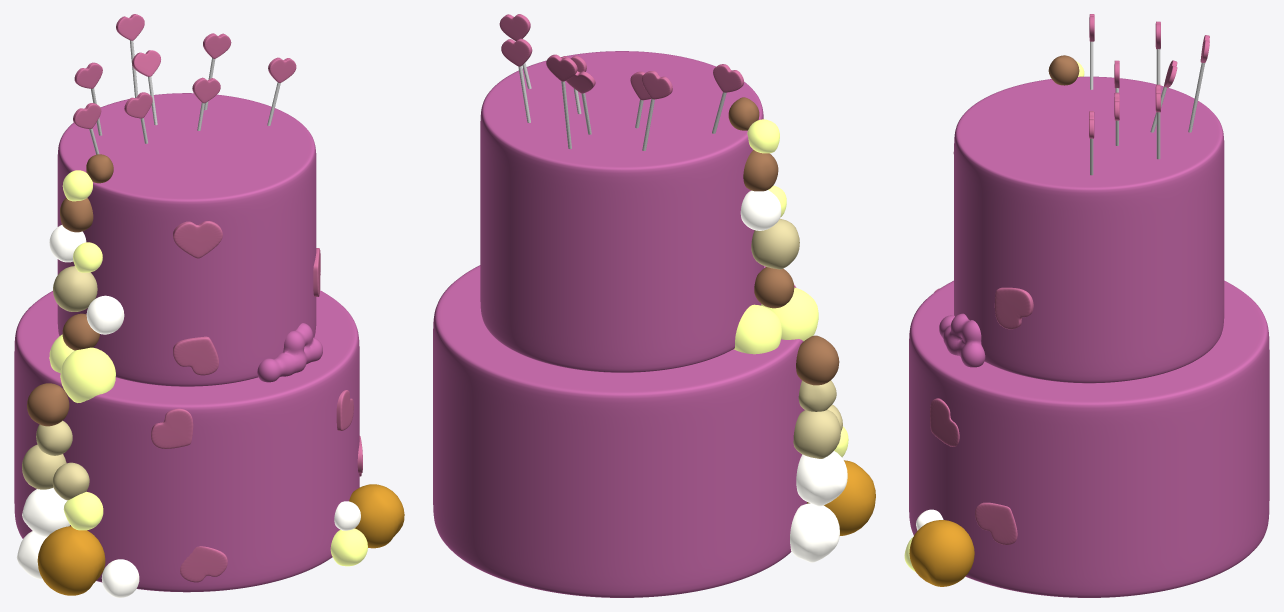
Rendered from Cake_Layer_2_Pink_Topper1_Hearts_NoDrip.glb.
The picture shows the model from 3 angles, left to right: view 1: azimuth 30°, elevation 25°; view 2: azimuth 150°, elevation 25°; view 3: azimuth 270°, elevation 25°; orthographic projection. The views are drawn at different scales.
Parts seen in each view (by area): view 1: Circle.001, Circle.002, Sphere, Sphere.026, Sphere.015, Sphere.028, Sphere.002, Sphere.012, Sphere.006, Star.003, Star.002, Star.001 (+26 smaller); view 2: Circle.001, Circle.002, Sphere.013, Sphere.002, Sphere, Sphere.005, Sphere.008, Sphere.012, Sphere.006, Sphere.015, Sphere.014, Sphere.009 (+9 smaller); view 3: Circle.001, Circle.002, Sphere.026, Sphere.028, Star.011, Star.004, Star.010, Sphere.018.
Boxes of the visible parts, x1,y1,x2,y2 form: Circle.001: [14, 290, 359, 592]; Circle.002: [57, 93, 316, 386]; Sphere: [37, 526, 105, 595]; Sphere.026: [349, 484, 404, 548]; Sphere.015: [60, 347, 115, 402]; Sphere.028: [257, 323, 322, 382]; Sphere.002: [22, 487, 69, 536]; Sphere.012: [53, 266, 97, 311]; Sphere.006: [27, 383, 69, 426]; Star.003: [173, 221, 222, 258]; Star.002: [173, 336, 218, 375]; Star.001: [151, 408, 193, 448]; Circle.001: [433, 265, 806, 597]; Circle.002: [480, 51, 763, 372]; Sphere.013: [790, 503, 839, 562]; Sphere.002: [796, 451, 847, 506]; Sphere: [807, 460, 875, 535]; Sphere.005: [793, 409, 840, 458]; Sphere.008: [734, 304, 781, 354]; Sphere.012: [751, 218, 799, 269]; Sphere.006: [796, 335, 839, 385]; Sphere.015: [761, 287, 818, 341]; Sphere.014: [740, 190, 781, 230]; Sphere.009: [754, 267, 794, 308]; Circle.001: [909, 280, 1269, 597]; Circle.002: [954, 76, 1224, 383]; Sphere.026: [909, 520, 974, 586]; Sphere.028: [939, 313, 985, 367]; Star.011: [975, 502, 1017, 544]; Star.004: [994, 287, 1033, 329]; Star.010: [930, 398, 959, 446]; Sphere.018: [1048, 55, 1079, 85].
Size of the model in its own units: 0.2244 by 0.3018 by 0.2025.
